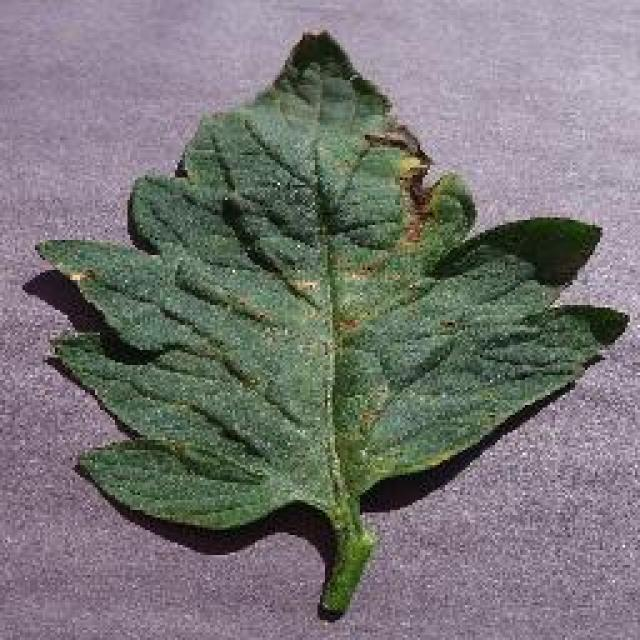Tomato Septoria spot leaf: (32, 19, 632, 536)
